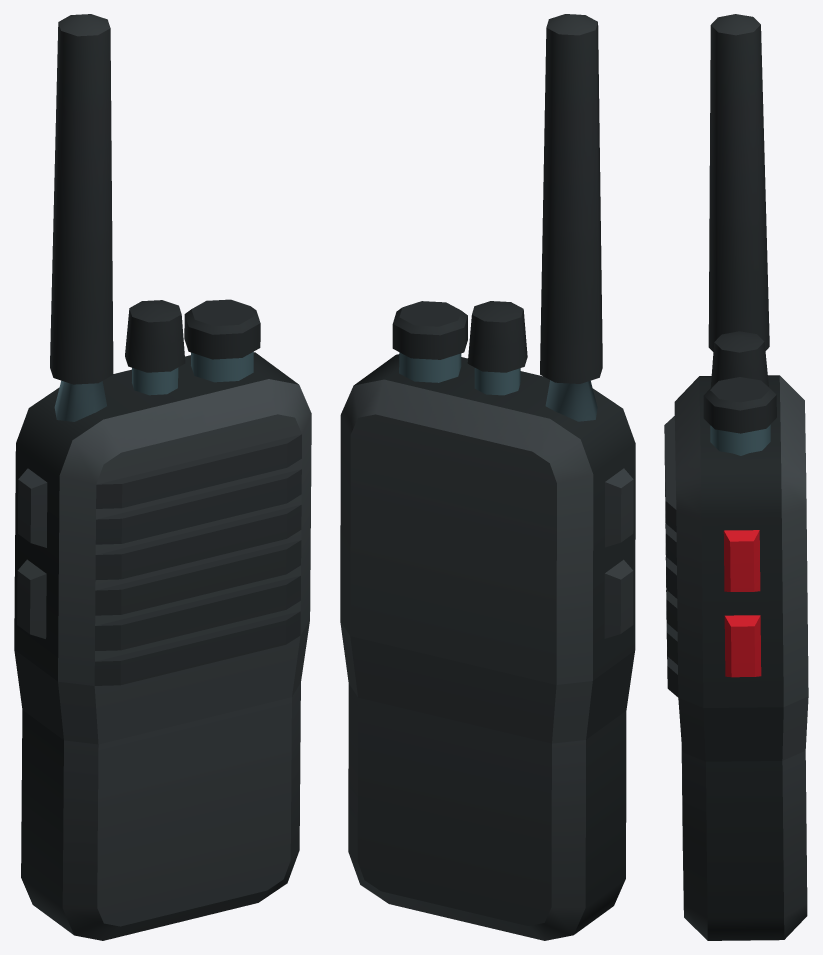
The model's file is Walkie_talkie.fbx.
3 renders of one model, left to right at view 1: azimuth 30°, elevation 25°; view 2: azimuth 150°, elevation 25°; view 3: azimuth 270°, elevation 25°, orthographic. The views are drawn at different scales.
Parts seen in each view (by area): view 1: Walkie_talkie; view 2: Walkie_talkie; view 3: Walkie_talkie.
Boxes of the visible parts, x1,y1,x2,y2 form: Walkie_talkie: (14,14,311,940); Walkie_talkie: (340,14,635,940); Walkie_talkie: (664,14,808,940).
Bounding box in the file's own units: 10.44 × 5.01 × 32.67.
